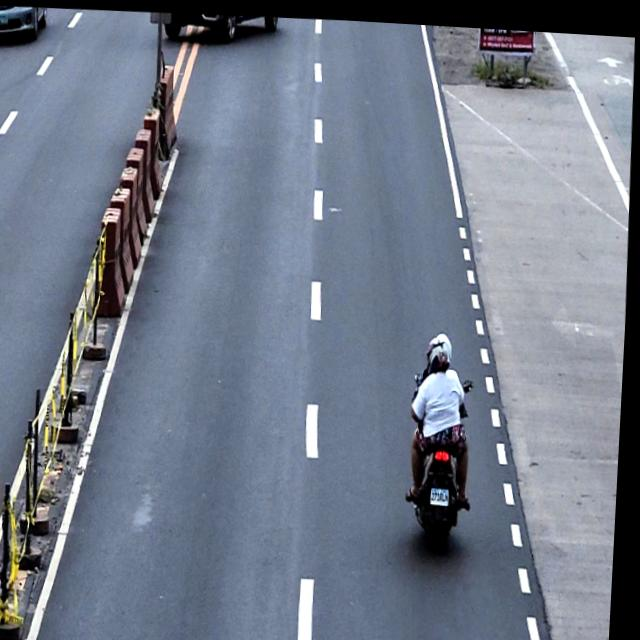License-Plate: (433, 478, 454, 501)
Motorcycle: (407, 365, 481, 547)
